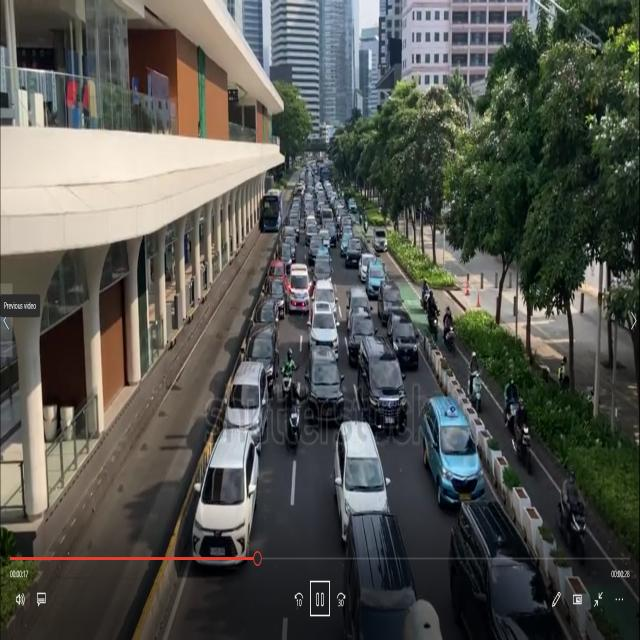Ambulance: (288, 261, 310, 318)
